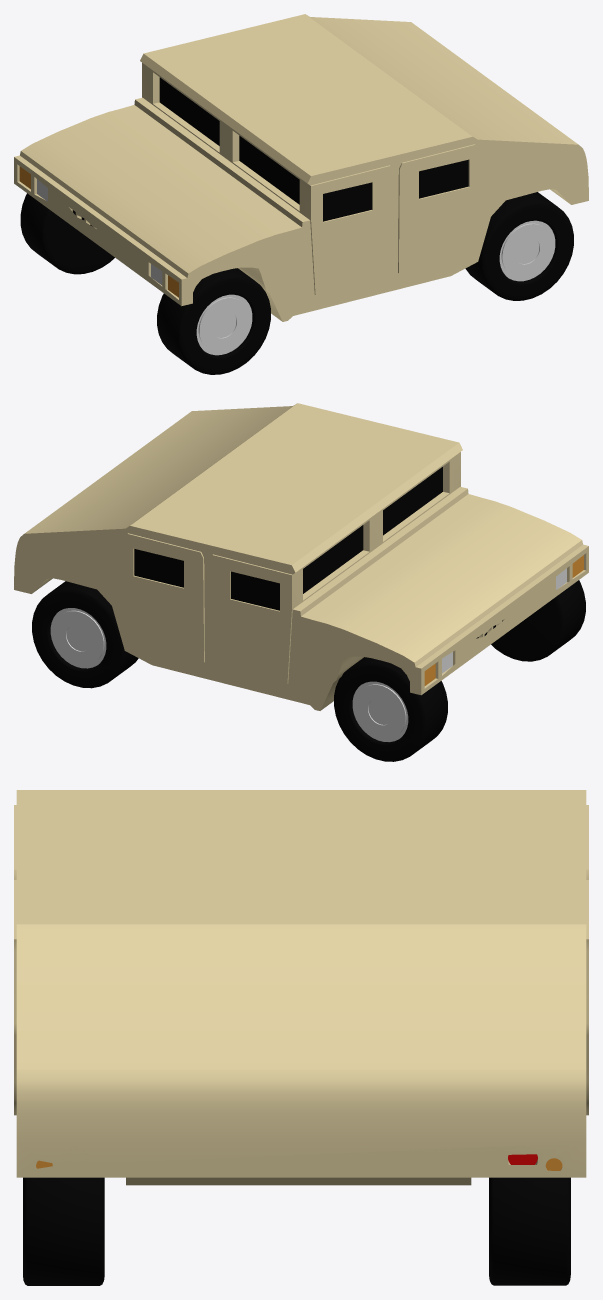
File: humvee.fbx
3 views of the same model, one above another, from view 1: azimuth 30°, elevation 25°; view 2: azimuth 150°, elevation 25°; view 3: azimuth 270°, elevation 25° (orthographic). The views are drawn at different scales.
Visible parts, largest first — view 1: Body, Front Right Wheel, Back Right Wheel, Front Left Wheel; view 2: Body, Front Left Wheel, Back Left Wheel, Front Right Wheel; view 3: Body, Back Right Wheel, Back Left Wheel.
Boxes of the visible parts, x1,y1,x2,y2 form: Body: [14, 14, 588, 321]; Front Right Wheel: [157, 268, 270, 374]; Back Right Wheel: [465, 192, 573, 300]; Front Left Wheel: [20, 193, 114, 274]; Body: [14, 403, 588, 710]; Front Left Wheel: [334, 657, 447, 761]; Back Left Wheel: [32, 581, 138, 688]; Front Right Wheel: [491, 580, 585, 661]; Body: [14, 790, 588, 1185]; Back Right Wheel: [23, 1177, 104, 1285]; Back Left Wheel: [489, 1177, 570, 1285].
Size of the model in its own units: 91.11 by 38.32 by 65.53.
